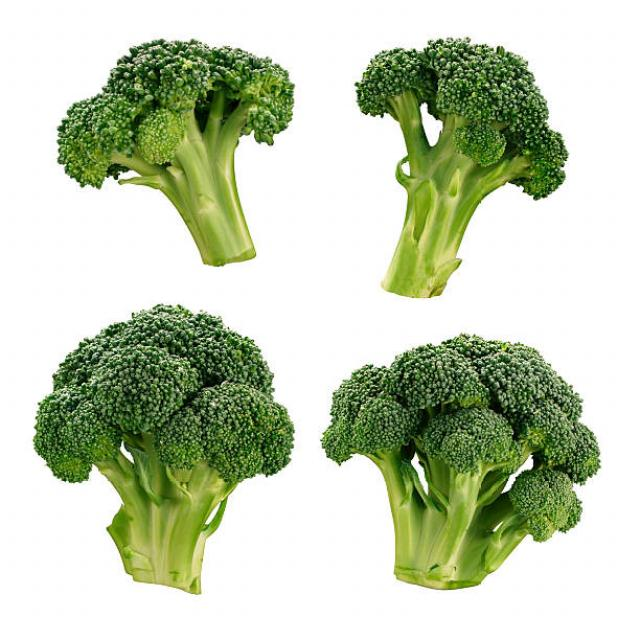broccoli: (314, 325, 591, 637), (12, 293, 288, 599), (334, 0, 587, 326), (38, 34, 310, 287)
